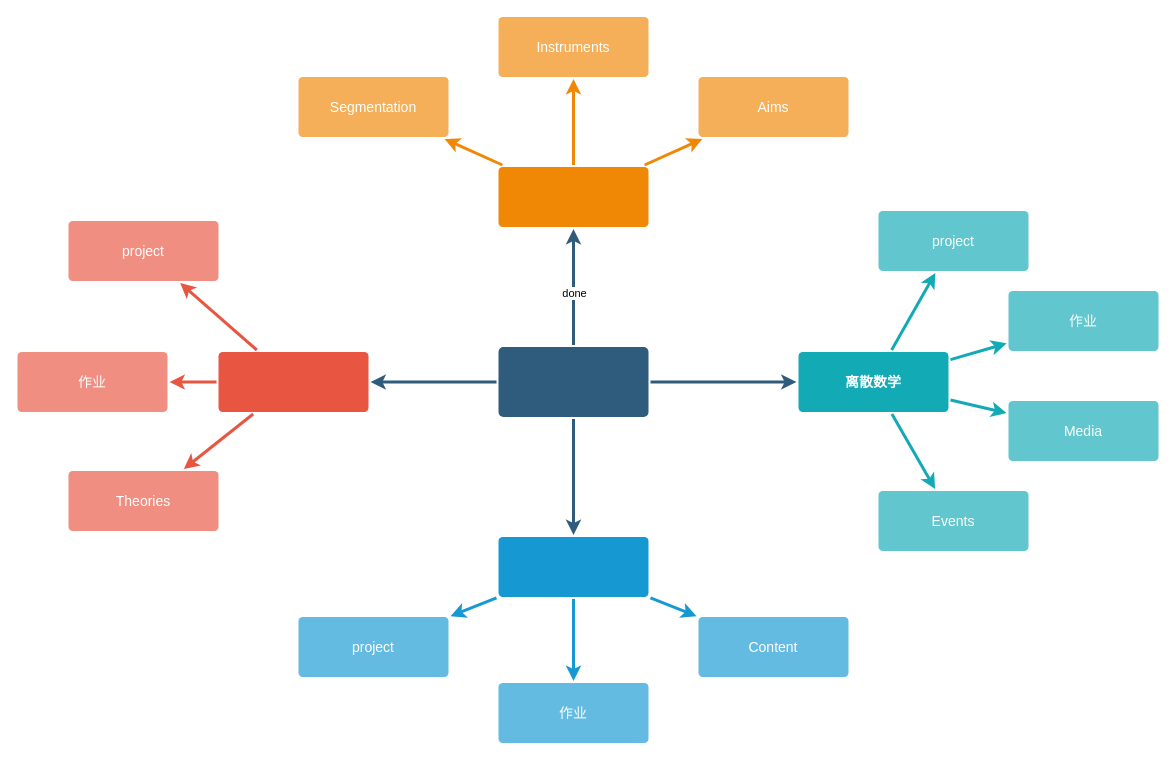
This 1175x760 diagram has some shape labels left out. The shapes that lost their labels are listed below. From the top down, each one's box as (x1, y1, x2, y2) in pixels, then its label:
(498, 166, 648, 226): 英语六级
(218, 352, 368, 412): 数据库
(498, 346, 648, 416): 当前工作
(498, 536, 648, 596): 数字逻辑
